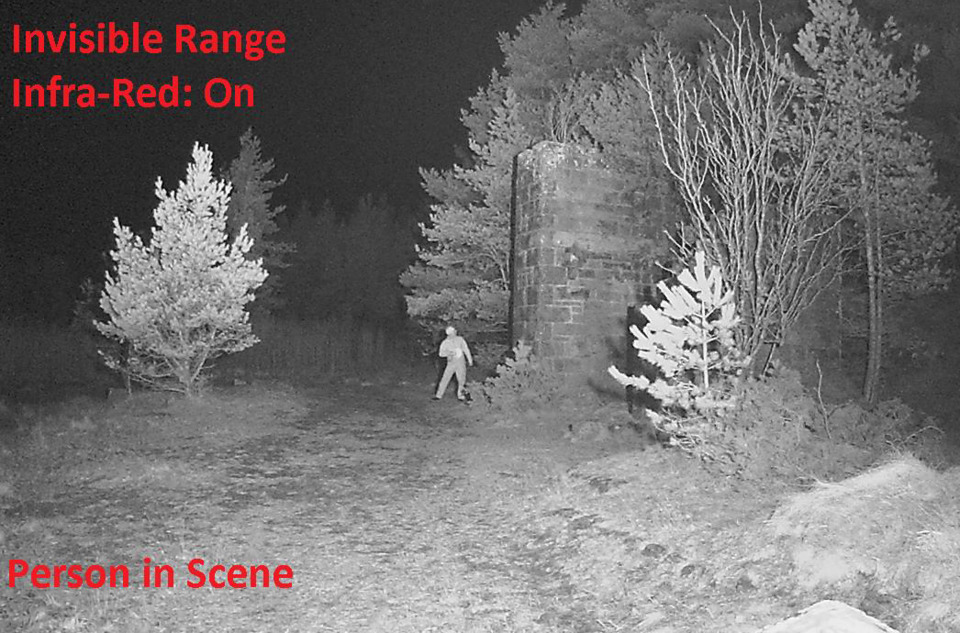person: (414, 316, 487, 412)
